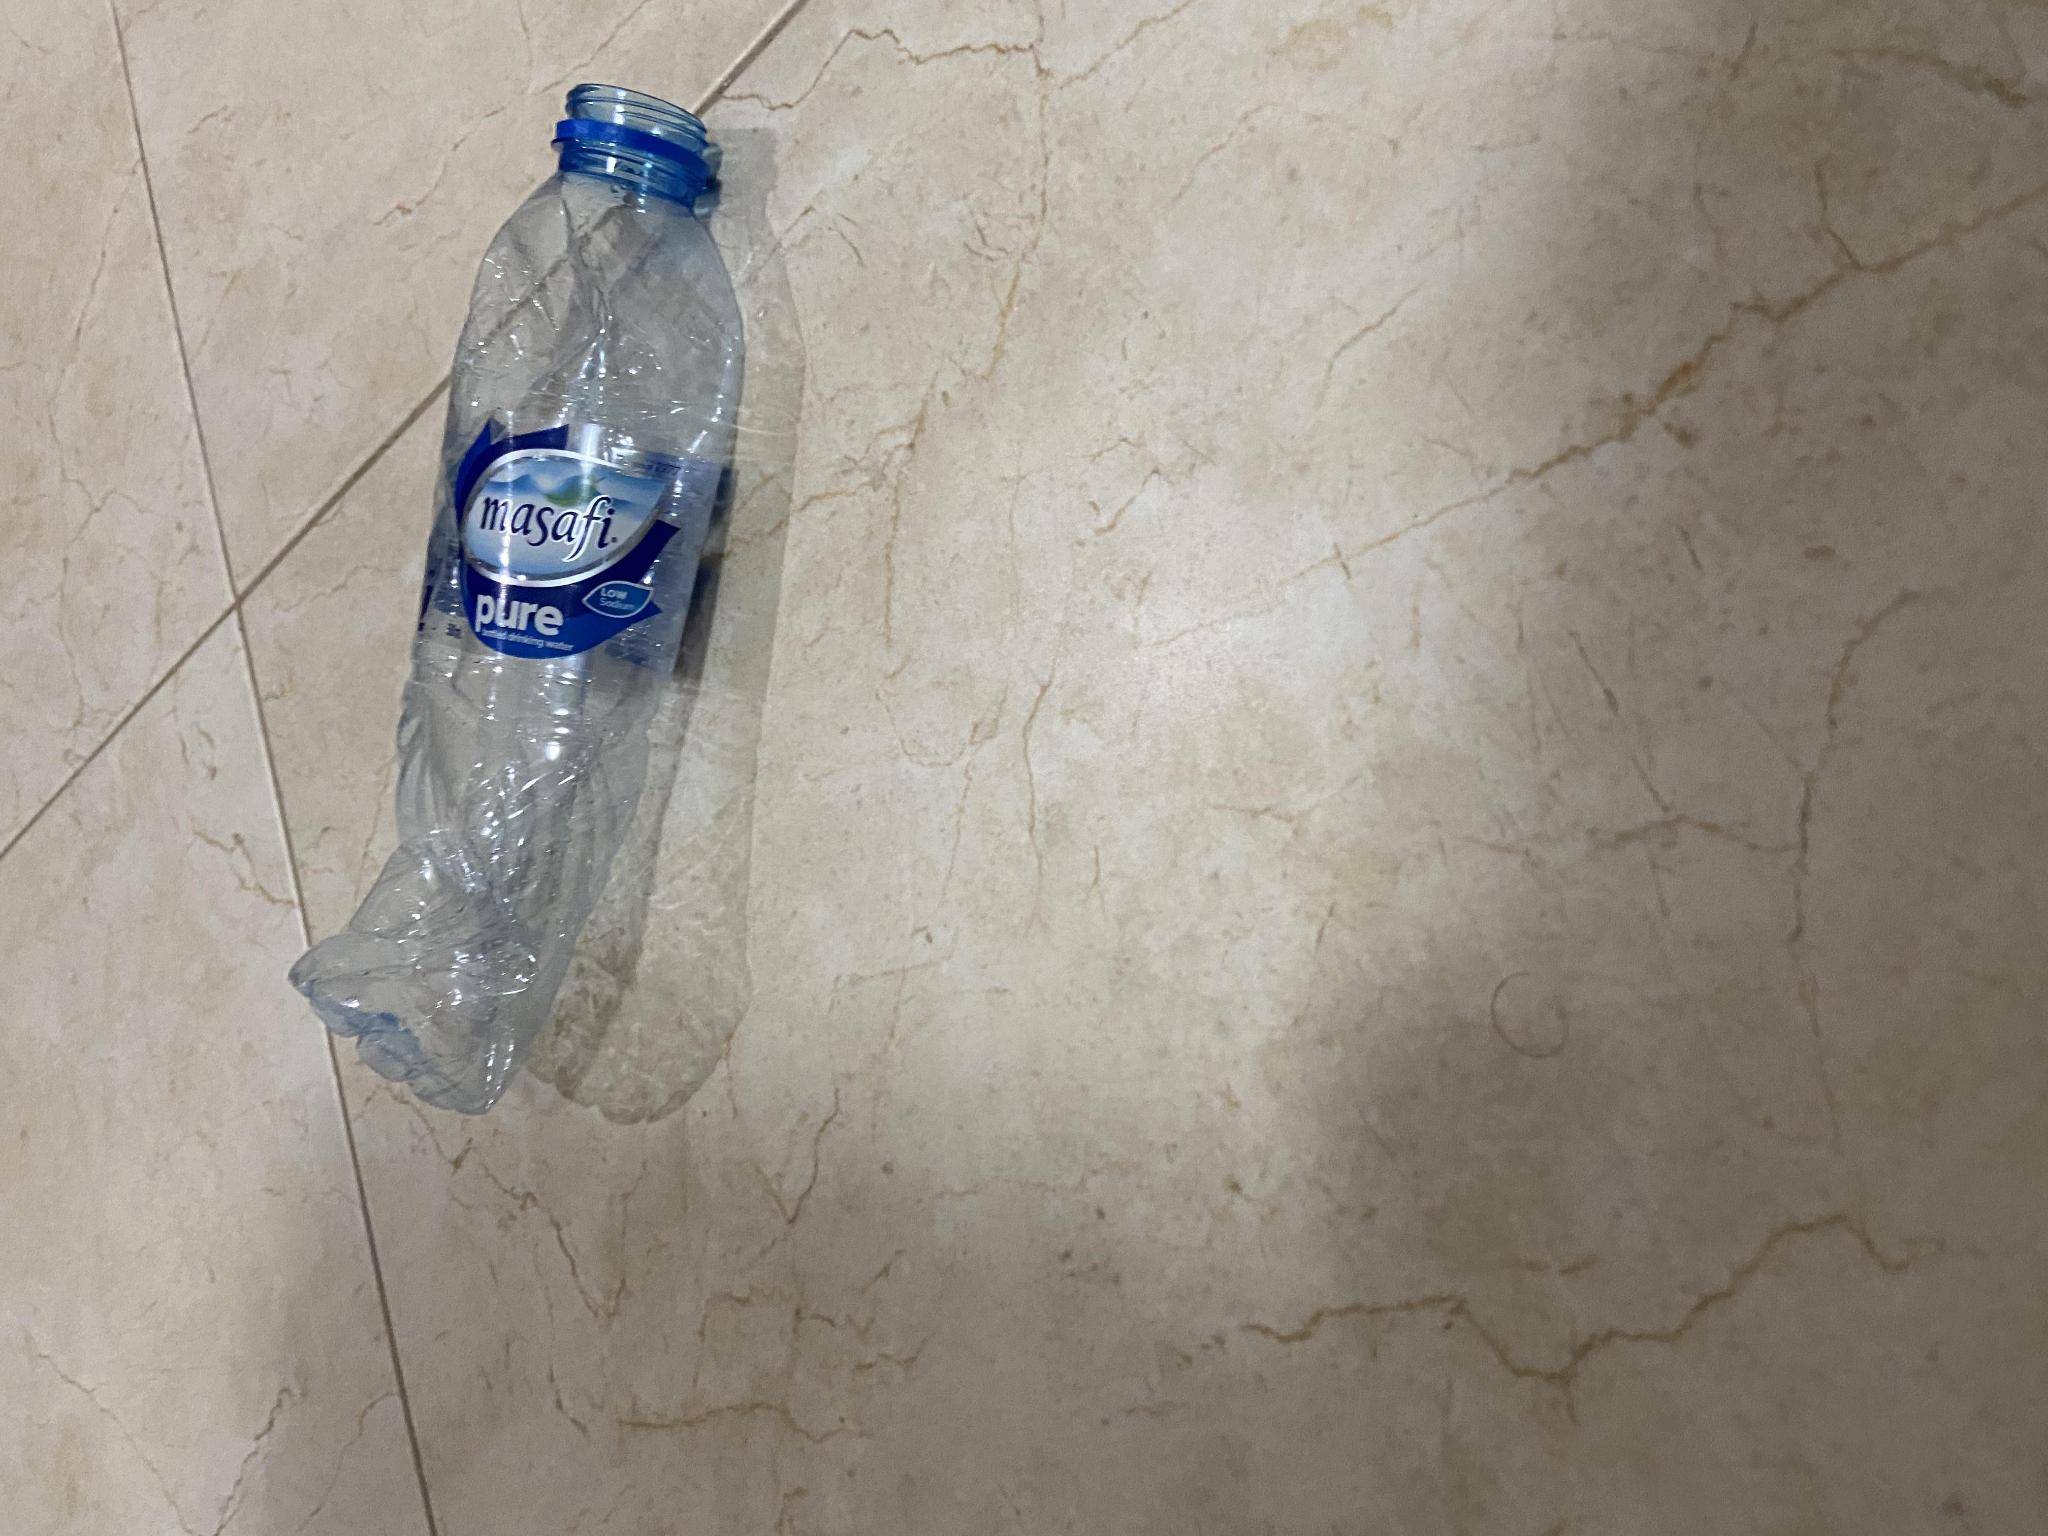bottle: (282, 70, 772, 1098)
